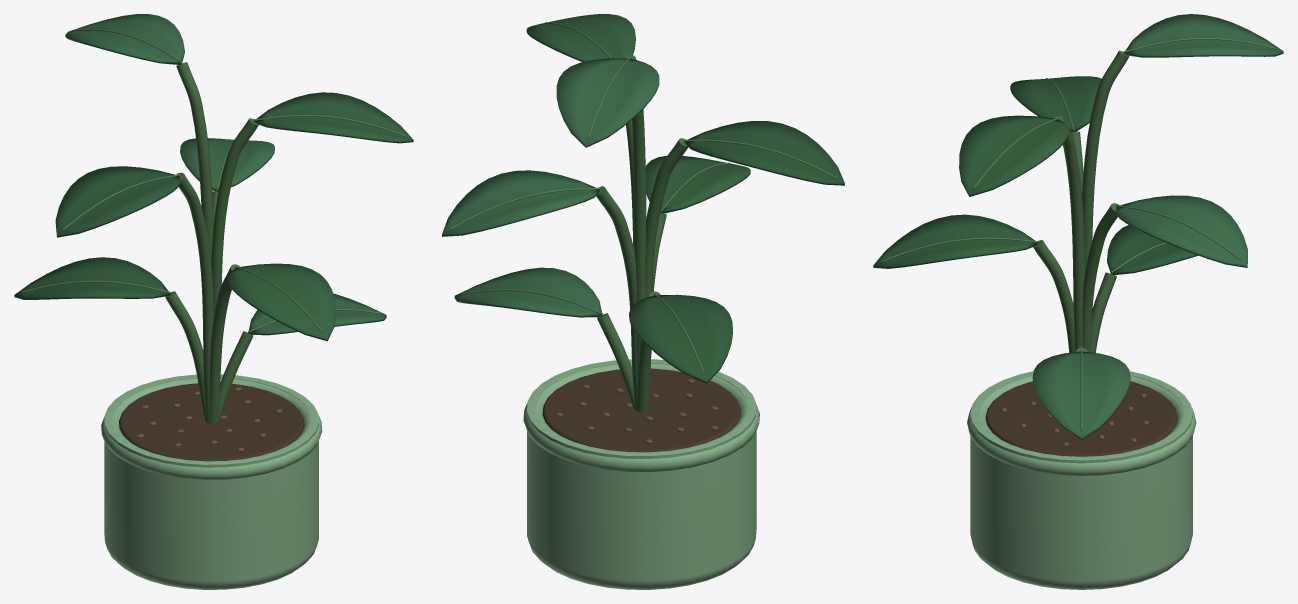
File: plantTallGreen.glb
3 renders of one model, left to right at view 1: azimuth 30°, elevation 25°; view 2: azimuth 150°, elevation 25°; view 3: azimuth 270°, elevation 25°, orthographic. The views are drawn at different scales.
Parts seen in each view (by area): view 1: Ceramic planter, Soil, Leaf blade 3, Leaf blade 5, Leaf blade 6, Pot rim, Leaf blade 2, Leaf blade 7, Leaf blade 4, Stem.004, Stem.005, Stem.006 (+4 smaller); view 2: Ceramic planter, Soil, Leaf blade 7, Leaf blade 2, Leaf blade 4, Leaf blade 5, Pot rim, Leaf blade 1, Leaf blade 6, Leaf blade 3, Stem.006, Stem.004 (+3 smaller); view 3: Ceramic planter, Soil, Leaf blade 1, Leaf blade 6, Leaf blade 4, Leaf blade 3, Leaf blade 7, Pot rim, Leaf blade 5, Stem.005, Leaf blade 2, Stem.006 (+3 smaller).
Boxes of the visible parts, x1,y1,x2,y2 form: Ceramic planter: [104, 374, 318, 589]; Soil: [119, 383, 304, 461]; Leaf blade 3: [227, 263, 335, 341]; Leaf blade 5: [55, 166, 180, 237]; Leaf blade 6: [254, 92, 413, 143]; Pot rim: [101, 378, 322, 479]; Leaf blade 2: [14, 257, 170, 299]; Leaf blade 7: [65, 14, 184, 64]; Leaf blade 4: [180, 138, 274, 191]; Stem.004: [176, 172, 213, 423]; Stem.005: [211, 118, 258, 319]; Stem.006: [176, 62, 213, 260]; Ceramic planter: [527, 359, 756, 589]; Soil: [542, 368, 740, 452]; Leaf blade 7: [556, 58, 659, 147]; Leaf blade 2: [629, 294, 732, 383]; Leaf blade 4: [442, 170, 599, 236]; Leaf blade 5: [684, 121, 844, 185]; Pot rim: [523, 363, 759, 472]; Leaf blade 1: [454, 267, 602, 317]; Leaf blade 6: [526, 14, 635, 61]; Leaf blade 3: [645, 156, 750, 213]; Stem.006: [624, 54, 646, 376]; Stem.004: [645, 138, 688, 409]; Ceramic planter: [970, 371, 1192, 589]; Soil: [985, 381, 1177, 456]; Leaf blade 1: [1032, 351, 1130, 440]; Leaf blade 6: [959, 115, 1068, 196]; Leaf blade 4: [1116, 195, 1247, 267]; Leaf blade 3: [873, 214, 1037, 268]; Leaf blade 7: [1124, 14, 1283, 57]; Pot rim: [967, 376, 1196, 475]; Leaf blade 5: [1010, 76, 1101, 131]; Stem.005: [1054, 115, 1084, 351]; Leaf blade 2: [1107, 225, 1197, 275]; Stem.006: [1082, 50, 1129, 272].
Bounding box in the file's own units: 1.23 × 1.64 × 1.22.
